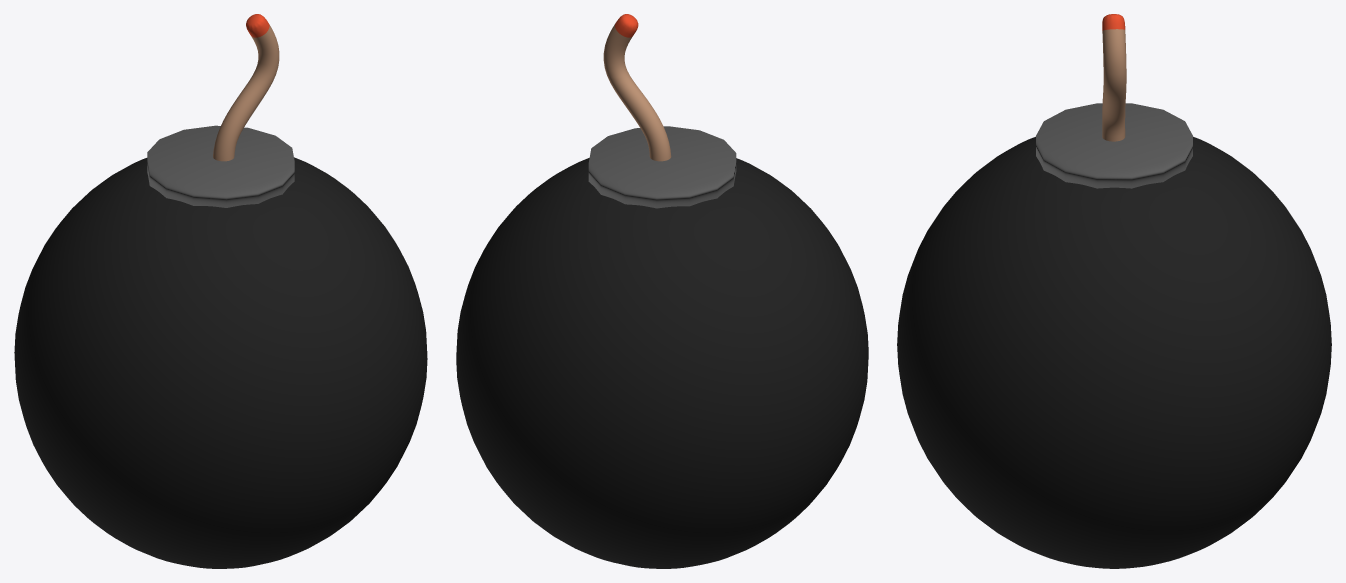
Rendered from bomb.glb.
3 renders of one model, left to right at view 1: azimuth 30°, elevation 25°; view 2: azimuth 150°, elevation 25°; view 3: azimuth 270°, elevation 25°, orthographic. The views are drawn at different scales.
Visible parts, largest first — view 1: 球, 円柱, 円柱.001; view 2: 球, 円柱, 円柱.001; view 3: 球, 円柱, 円柱.001.
Part boxes in pixels (bbox=[...]): 球: bbox=[14, 157, 427, 568]; 円柱: bbox=[147, 125, 294, 207]; 円柱.001: bbox=[213, 14, 279, 161]; 球: bbox=[456, 158, 868, 568]; 円柱: bbox=[588, 126, 736, 208]; 円柱.001: bbox=[603, 14, 671, 161]; 球: bbox=[897, 136, 1331, 568]; 円柱: bbox=[1036, 103, 1192, 188]; 円柱.001: bbox=[1102, 14, 1126, 141].
Bounding box in the file's own units: 1.88 × 2.65 × 1.88.
